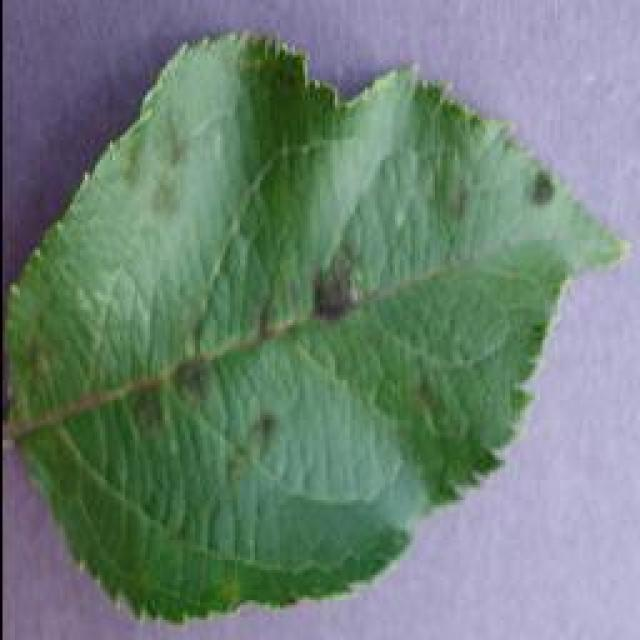Apple___Apple_scab: (0, 22, 636, 634)
